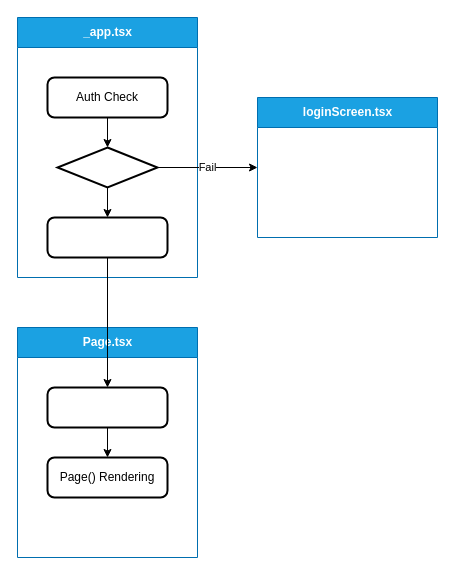
Some shapes in this 455 by 575 pixel diagram are drawn without their labels. Here are the shapes that lost their labels. From the top down, the centre of each, then its label:
point (107, 167): Authenticated
point (107, 237): <Component {...pageProps} />
point (107, 407): SSR getServerSideProps()
